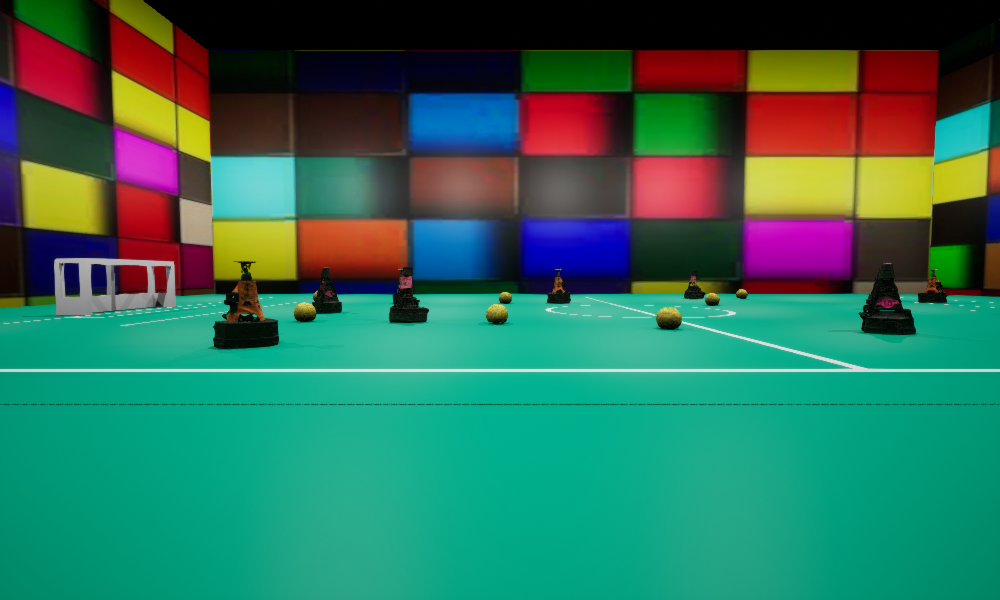b: (656, 307, 681, 328), (294, 302, 315, 321), (486, 304, 507, 322), (705, 293, 719, 304), (499, 292, 511, 303), (736, 289, 747, 298), (313, 291, 317, 300)
o: (213, 261, 278, 348), (918, 269, 947, 302), (547, 269, 570, 303), (393, 269, 411, 303)
p1: (858, 263, 915, 334), (312, 267, 341, 313), (866, 268, 895, 306)
p2: (389, 267, 428, 322), (684, 271, 705, 298), (317, 277, 336, 293)
